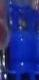cylinder: (1, 1, 39, 80)
